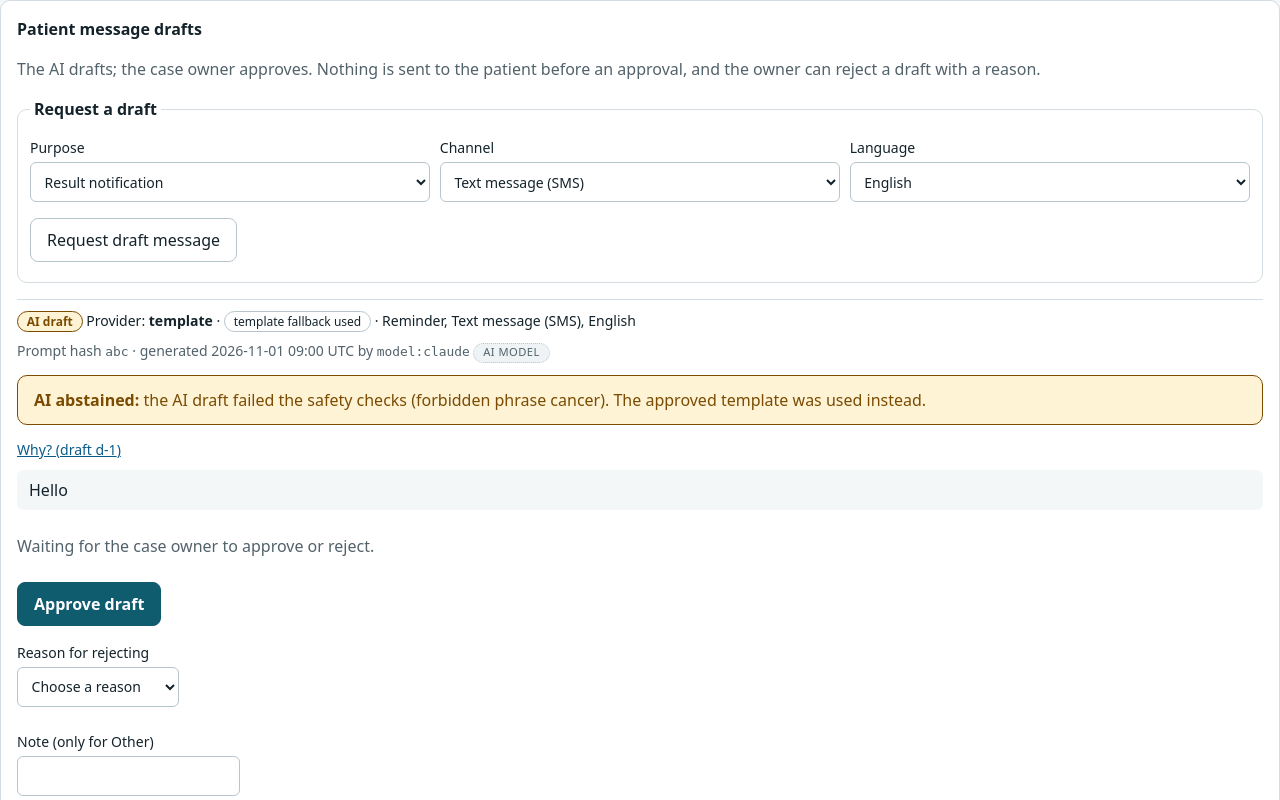
Test: Why? panel › drafts: a template fallback says 'Template (no AI)', the abstention reason, and that a person approves
The width and height of the screenshot is (1280, 800).
Click the heading "Why? (draft d-1)" at (69, 450), box [17,437,121,462]
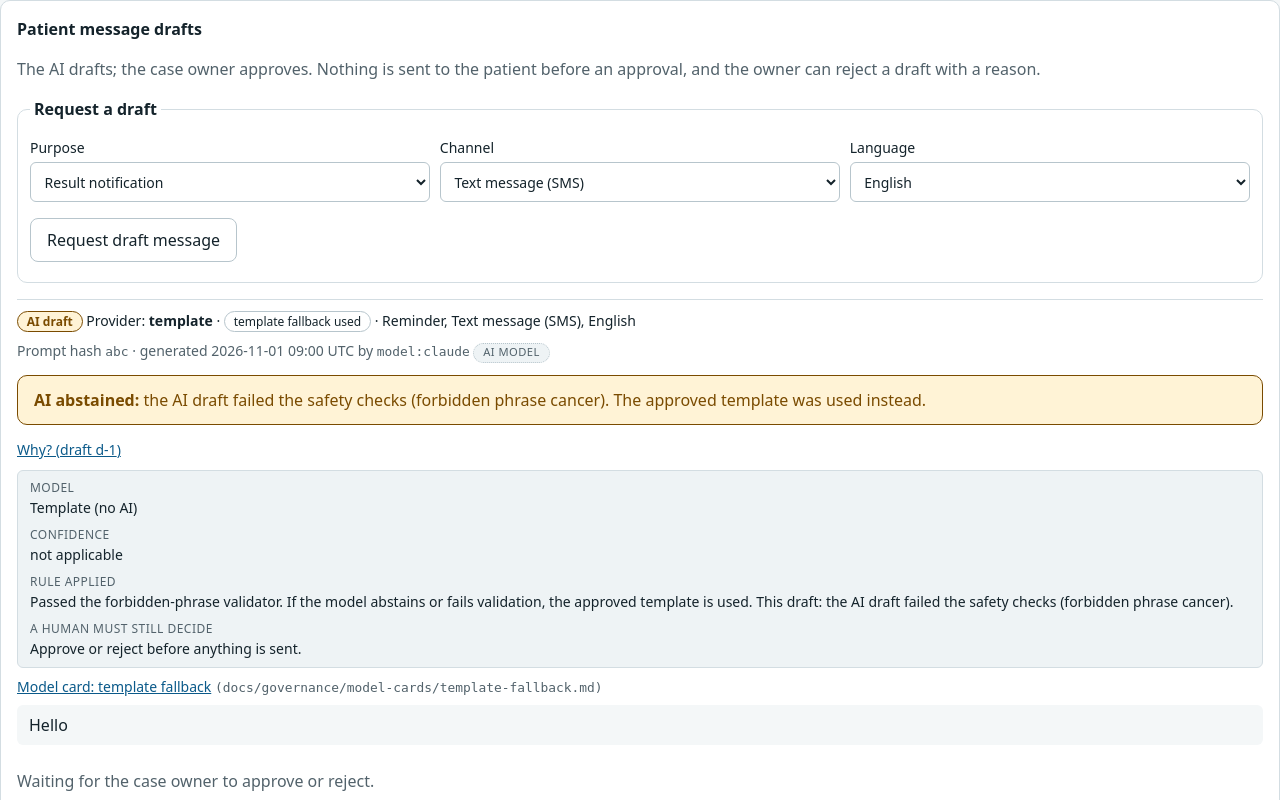
Now the text with test id "why-draft-d-1-model" reads "Template (no AI)", box [30,498,137,517]
Now the text with test id "why-draft-d-1-confidence" reads "not applicable", box [30,545,123,564]
Now the text with test id "why-draft-d-1-rule" shows "forbidden-phrase validator", box [30,592,1234,611]
